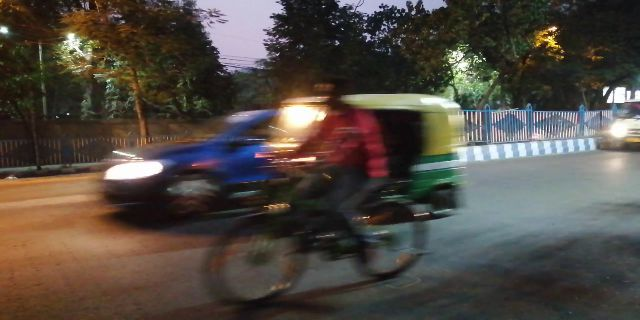Car: (95, 137, 245, 210)
Cycle: (203, 85, 432, 308)
